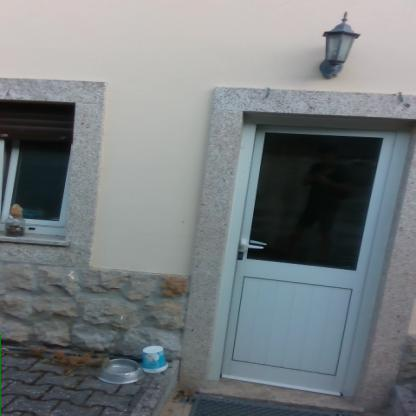closed: (203, 90, 415, 407)
